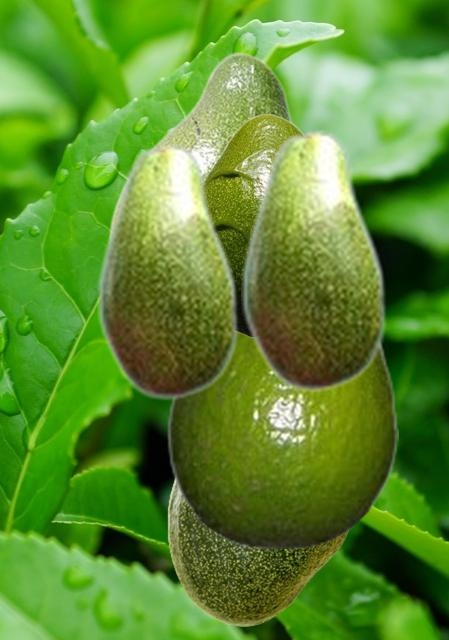avocado: (166, 334, 397, 547), (241, 127, 386, 393), (97, 141, 238, 401), (108, 51, 295, 232), (167, 478, 351, 625), (206, 113, 302, 337)
